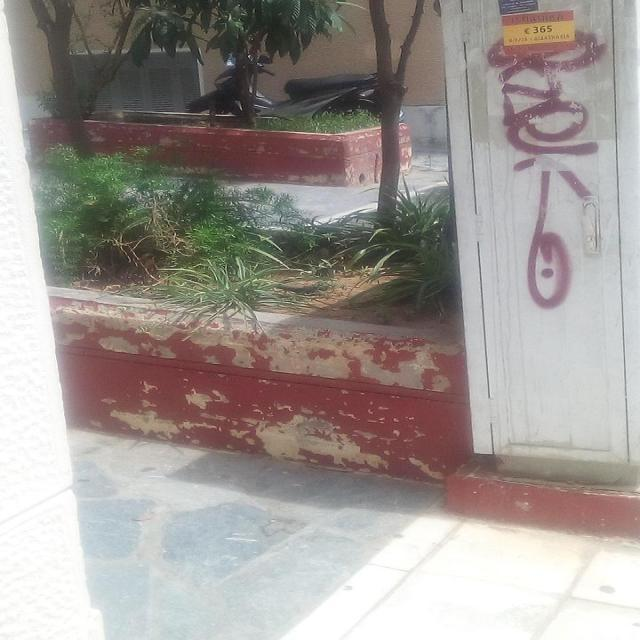nonspitting: (487, 28, 610, 310)
